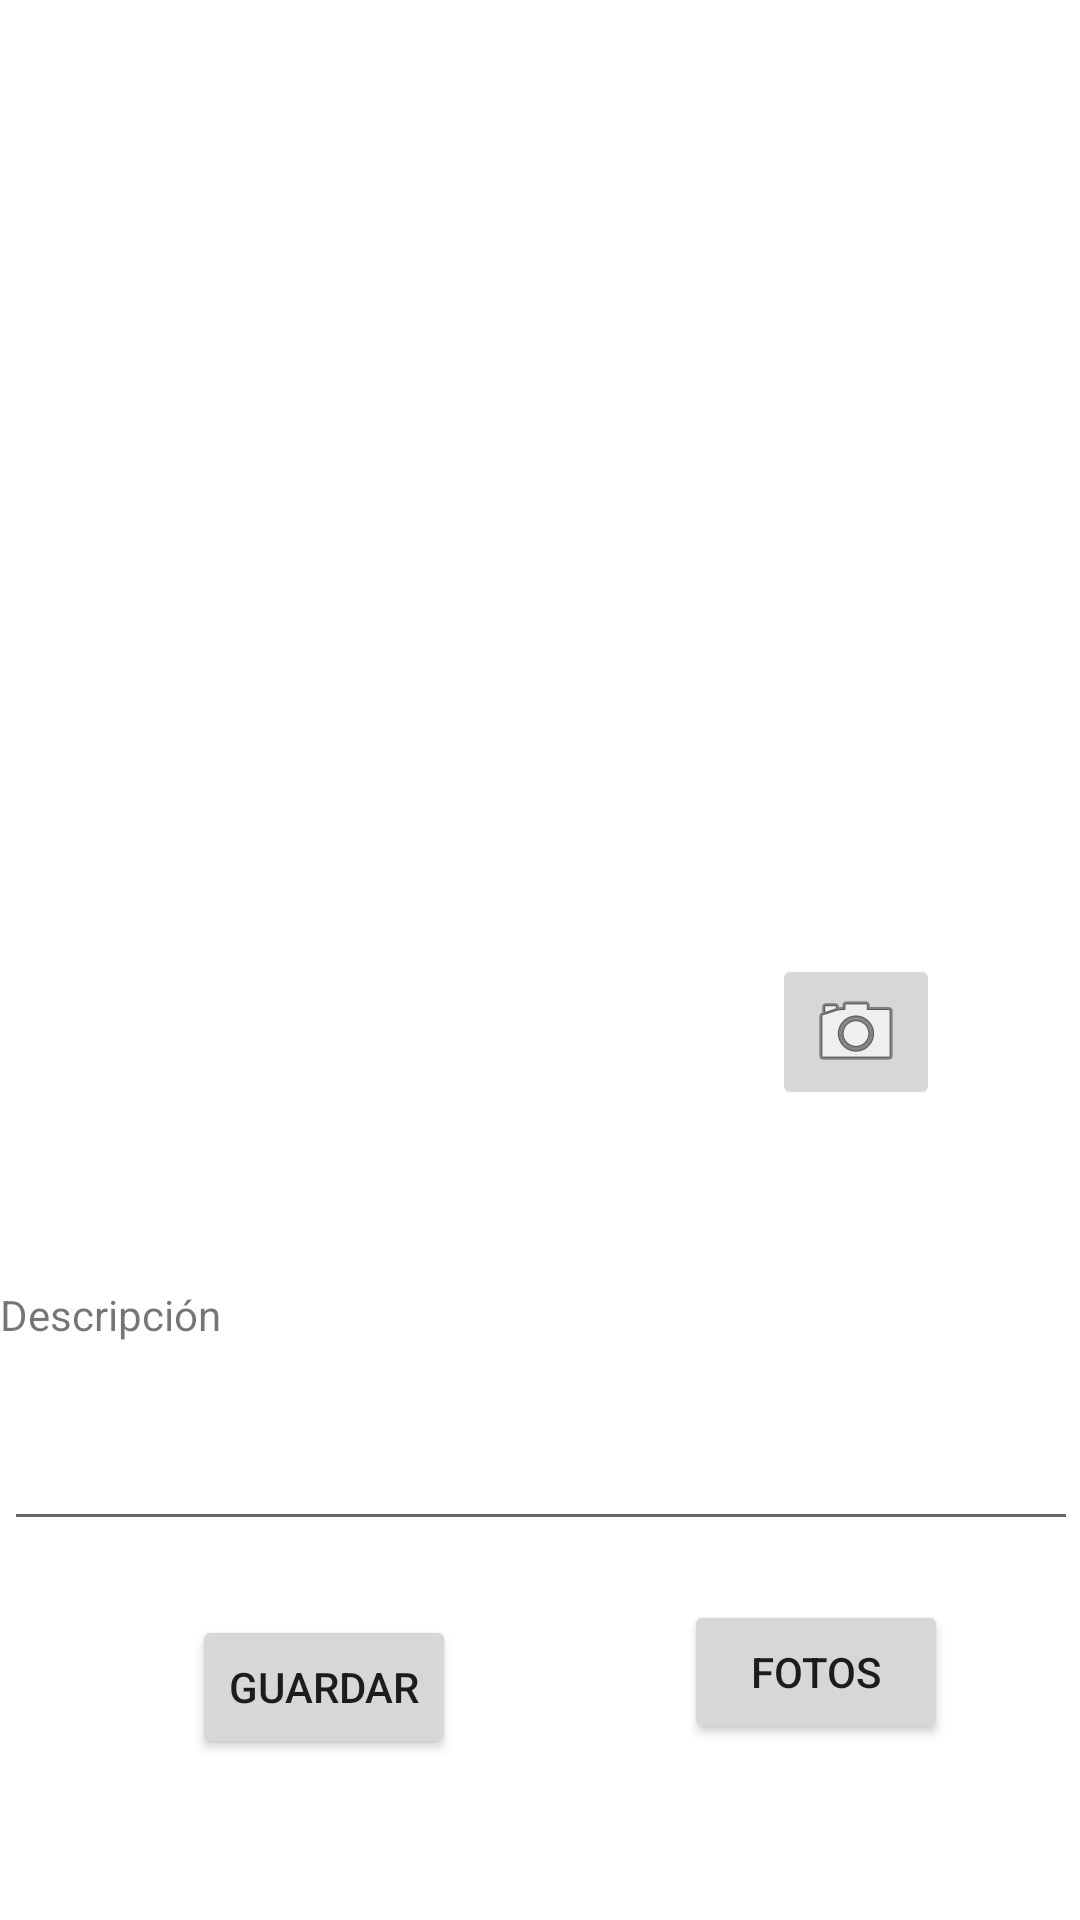

Named icons in this screenshot (1080 × 1920) and their centers, (x=x, y=y):
camera: (x=856, y=1032)
